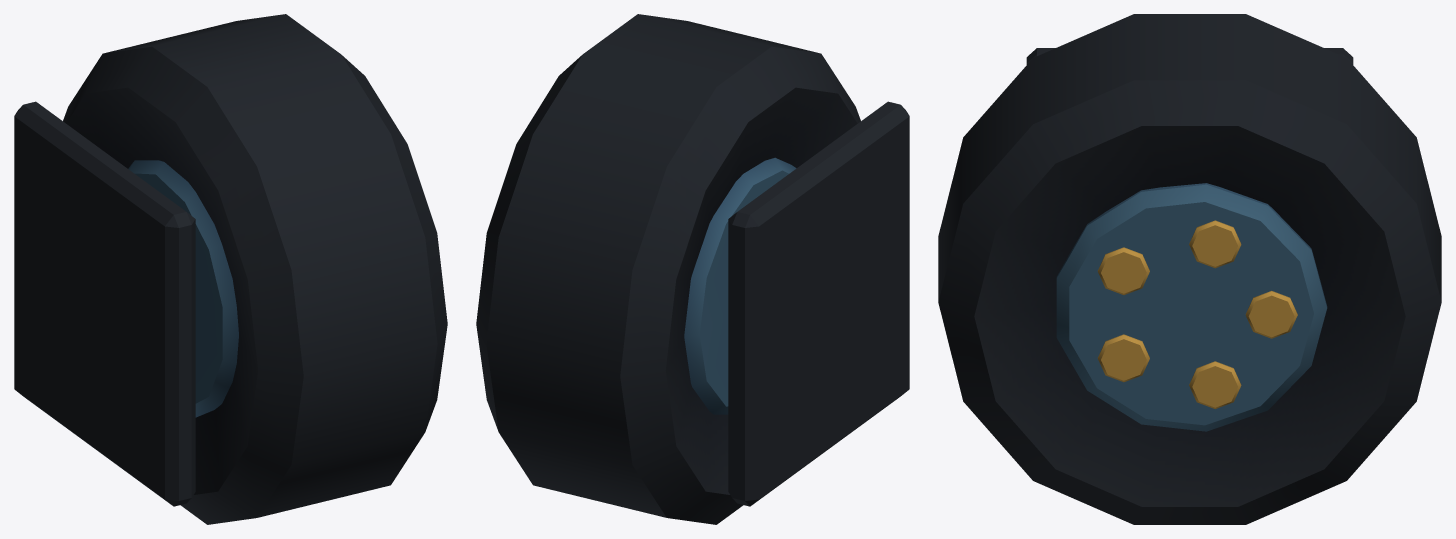
The model's file is R4M_WheelM_Side_Offroad.glb.
The picture shows the model from 3 angles, left to right: view 1: azimuth 30°, elevation 25°; view 2: azimuth 150°, elevation 25°; view 3: azimuth 270°, elevation 25°; orthographic projection.
Parts seen in each view (by area): view 1: R4M_WheelM_Side_Offroad_Rotor, R4M_WheelM_Side_Offroad_Mount; view 2: R4M_WheelM_Side_Offroad_Rotor, R4M_WheelM_Side_Offroad_Mount; view 3: R4M_WheelM_Side_Offroad_Rotor.
Boxes of the visible parts, box(x1,y1,x2,y2) form: R4M_WheelM_Side_Offroad_Rotor: box(63, 14, 447, 524); R4M_WheelM_Side_Offroad_Mount: box(14, 101, 195, 506); R4M_WheelM_Side_Offroad_Rotor: box(476, 14, 860, 524); R4M_WheelM_Side_Offroad_Mount: box(728, 101, 909, 506); R4M_WheelM_Side_Offroad_Rotor: box(938, 14, 1441, 524).
Size of the model in its own units: 0.452 by 0.7507 by 0.77.
